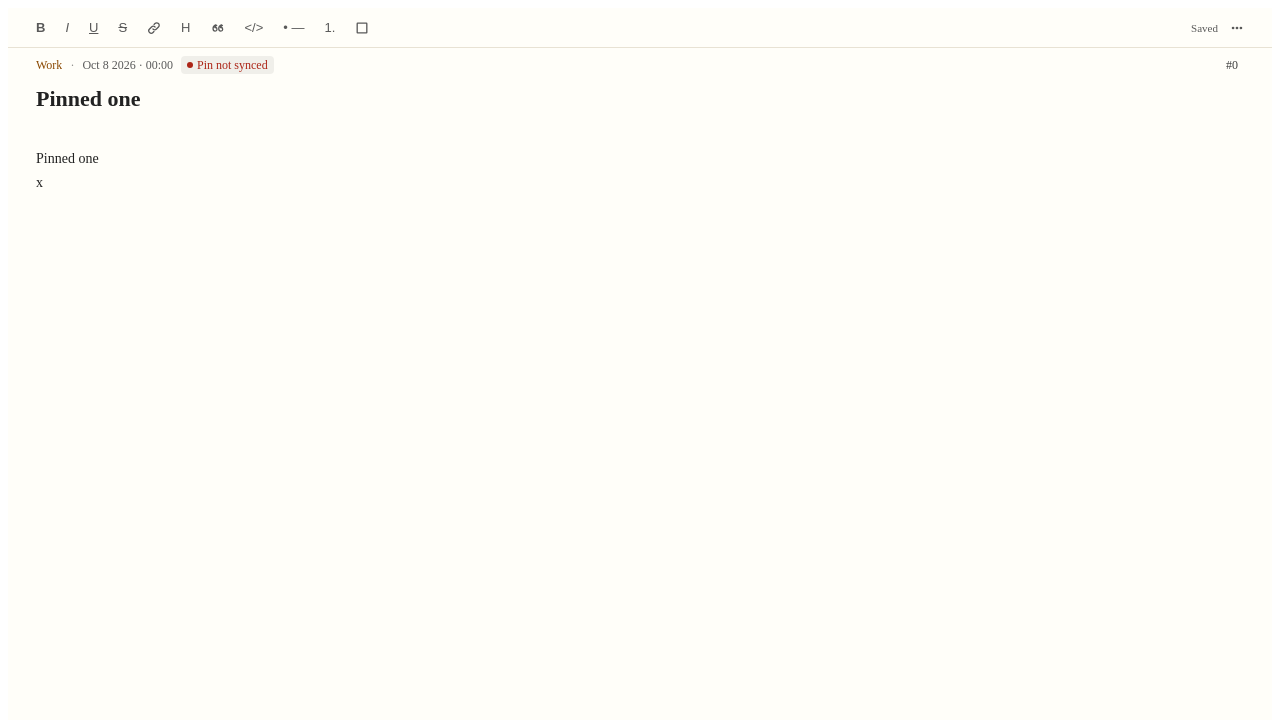
NoteEditor says a pin did not sync › shows the reason as text, and Try again re-arms it
The image size is (1280, 720).
Click the button with class "meta-status" at (227, 65), box [181,56,274,74]
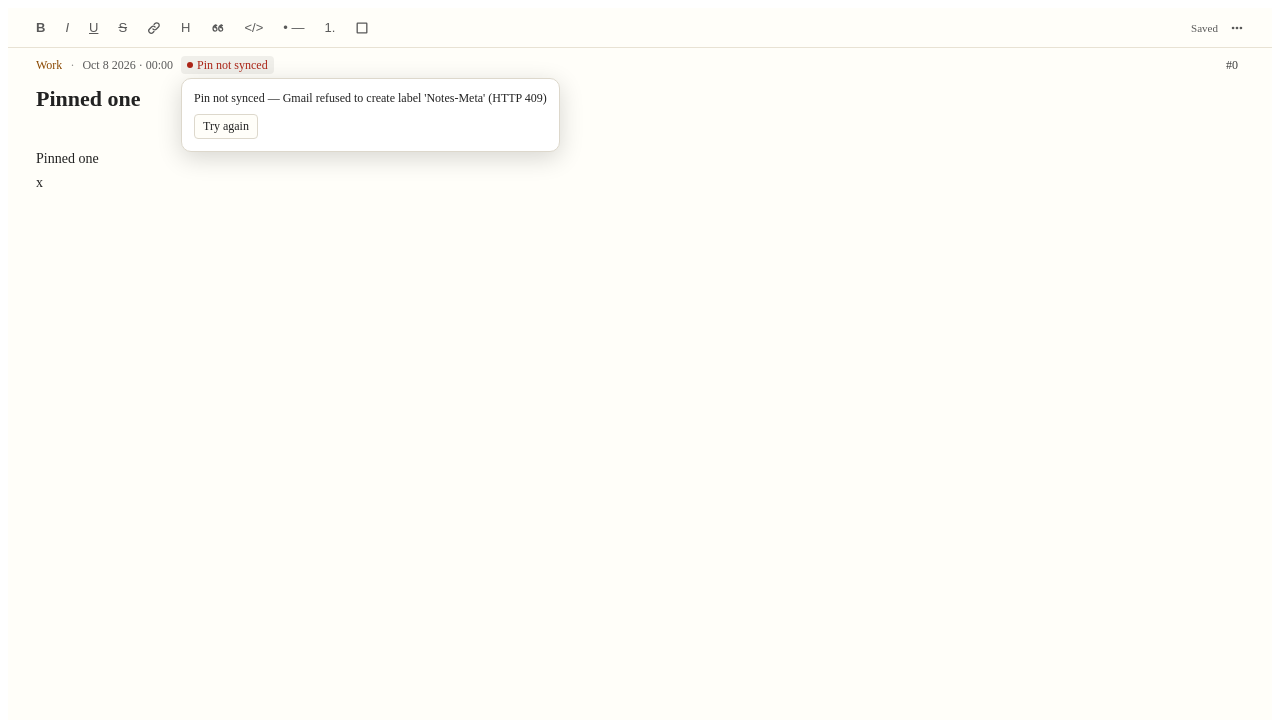
Check: the dialog with test id "meta-status-popover" shows "Gmail refused to create label 'Notes-Meta' (HTTP 409)", box [194,91,547,105]
Click the button with class "retry-sync-btn" at (226, 126), box [194,114,258,139]
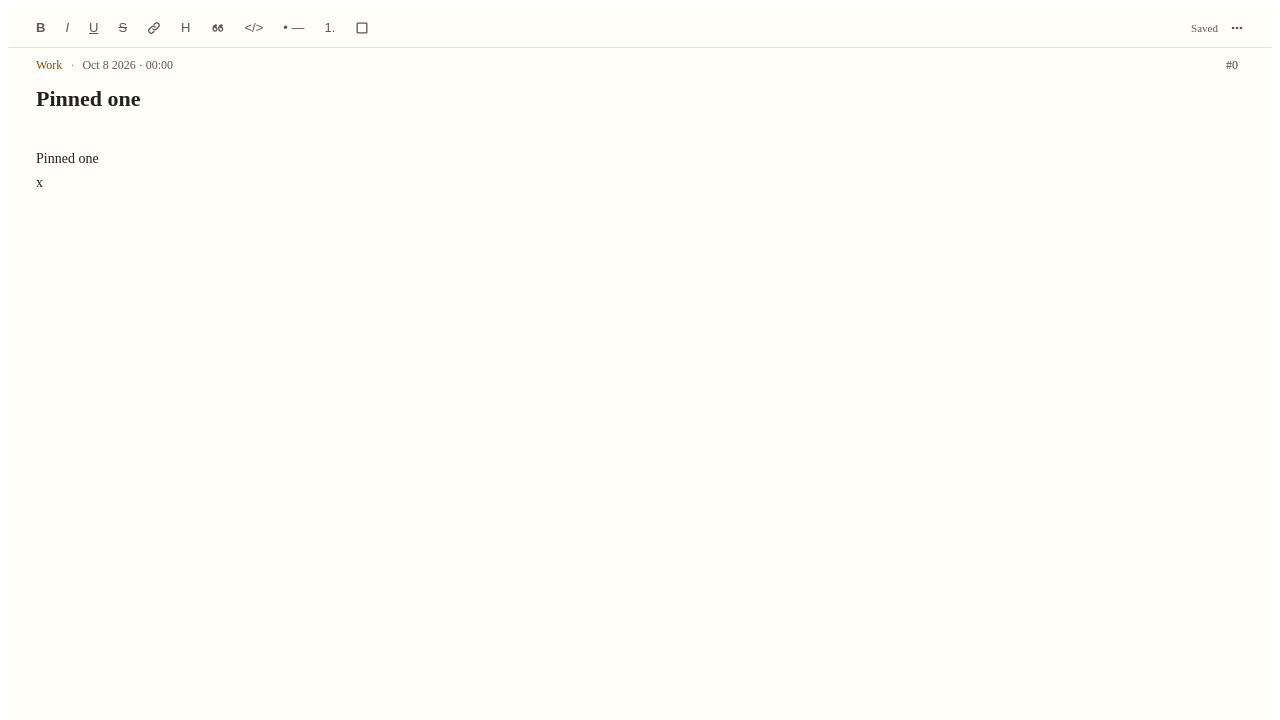
Check: the button with class "meta-status" is gone
Check: the dialog with test id "meta-status-popover" is gone
